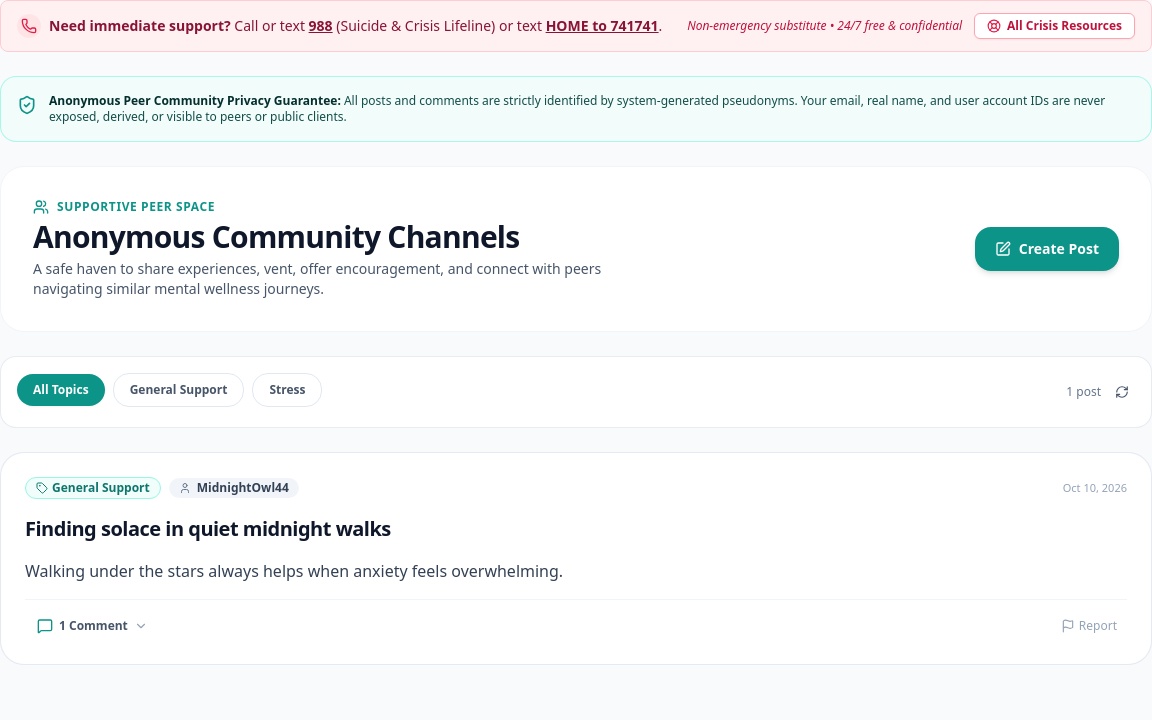
Community Pseudonym-Only Privacy Verification (BR-7 / REQ-AC-5) › strictly displays pseudonym ONLY on comments and never derives registered identity
Note: Expand comments
Click the button with test id "toggle-comments-btn-post-privacy-test-1".
click(92, 626)  # box 25,612 -> 160,640
(page scrolled)
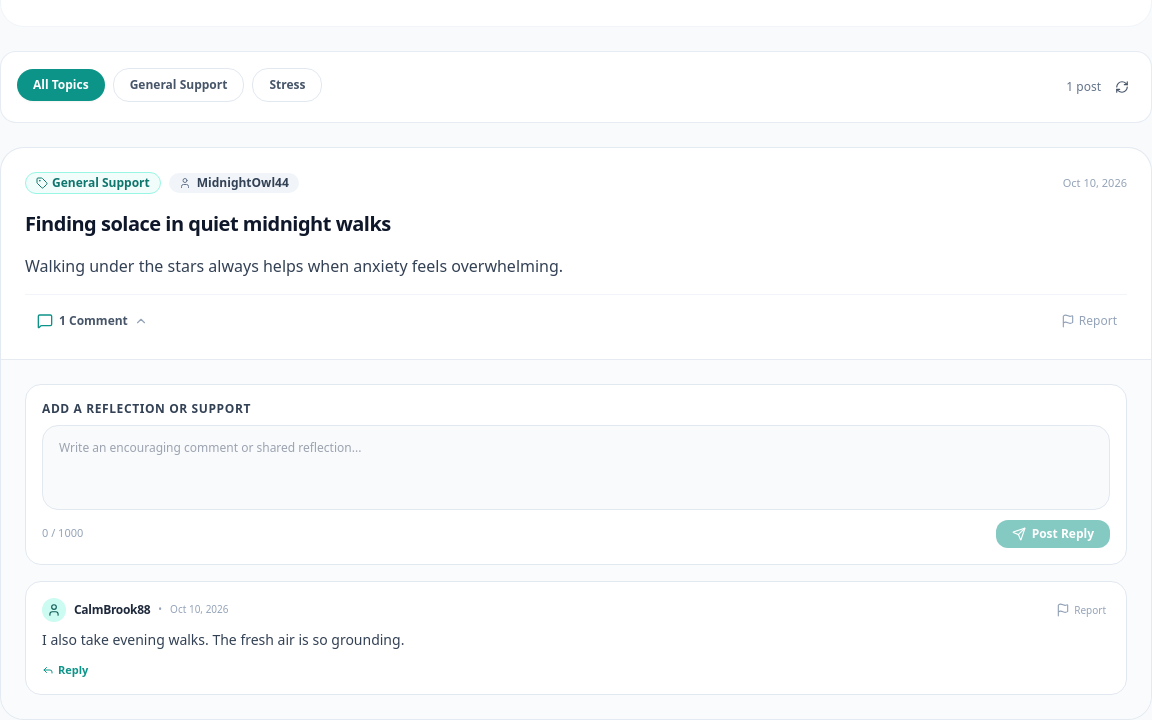
expect the text with test id "comment-author-pseudonym" reads "CalmBrook88": met, box 74,600 -> 150,618
